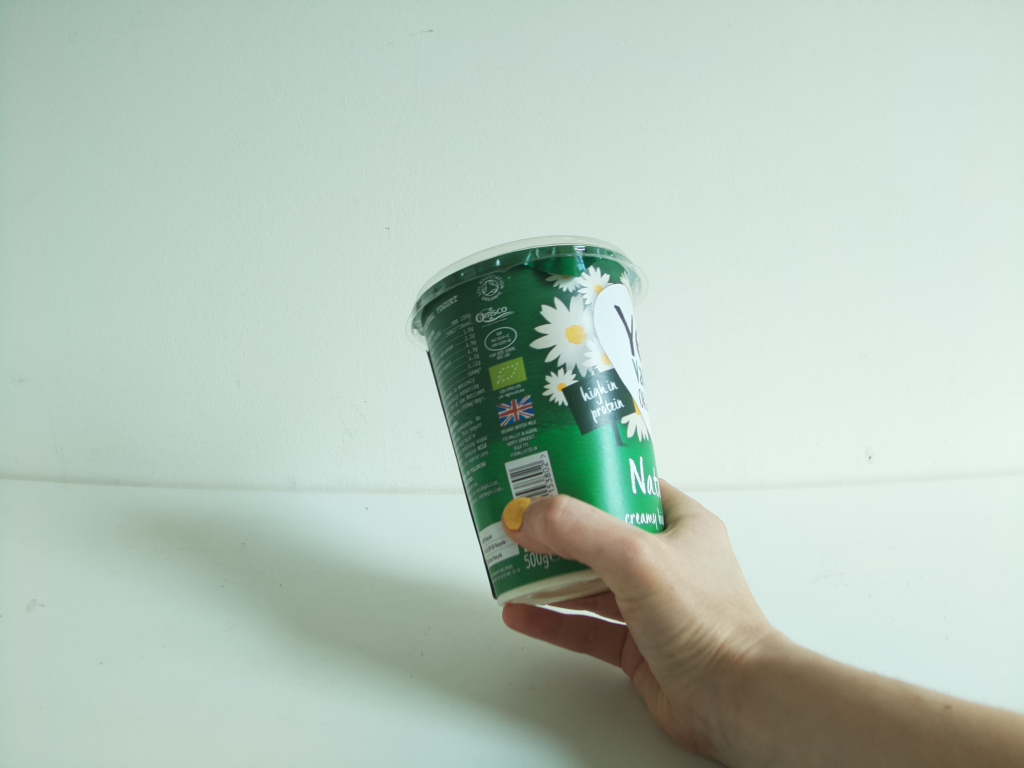yogurt: (403, 231, 677, 612)
